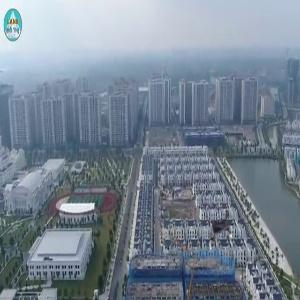drone: (199, 207, 245, 253)
